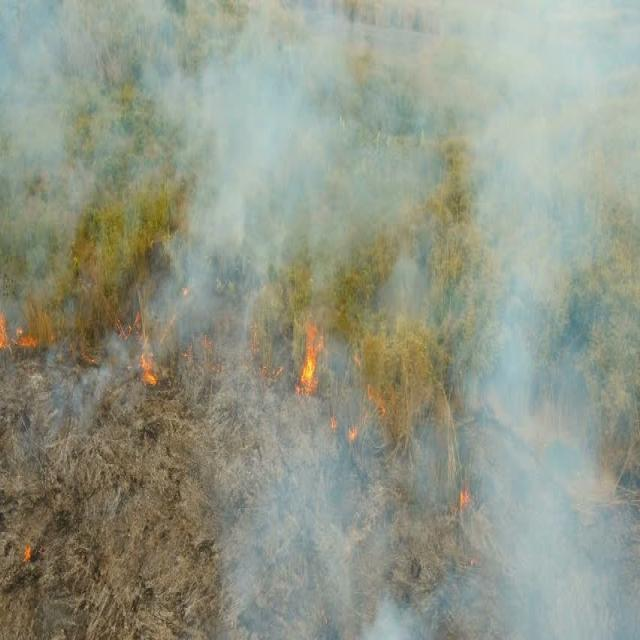Fire: (299, 328, 326, 394), (0, 320, 50, 350), (136, 346, 158, 388), (461, 493, 471, 511), (348, 429, 356, 447), (26, 546, 30, 558)
Smoke: (6, 6, 640, 320), (213, 401, 639, 640), (461, 322, 586, 402)
